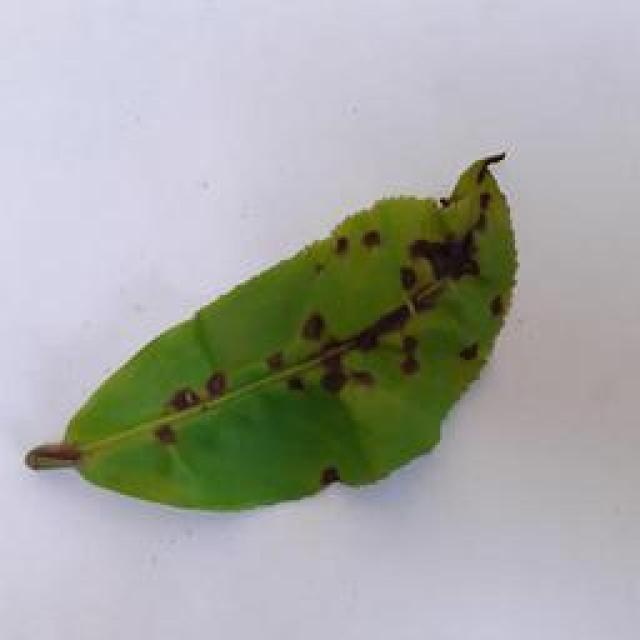Helopeltis: (28, 148, 562, 518)
